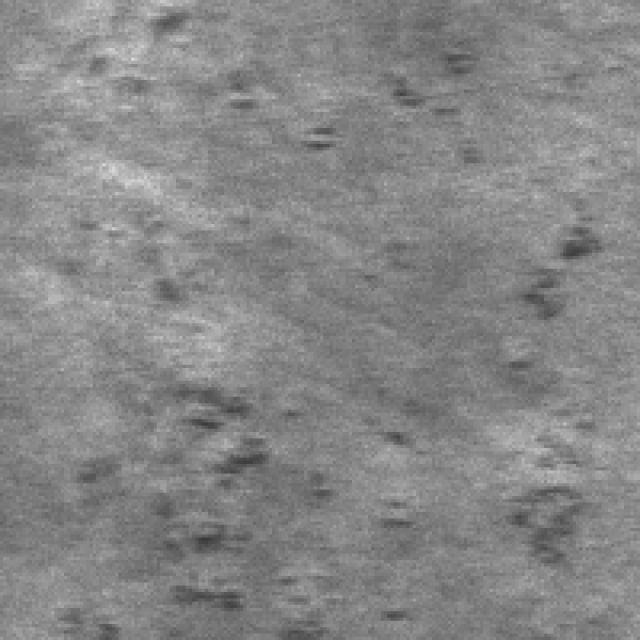rolled-in_scale: (90, 240, 326, 630), (476, 205, 602, 592), (109, 48, 480, 163)
